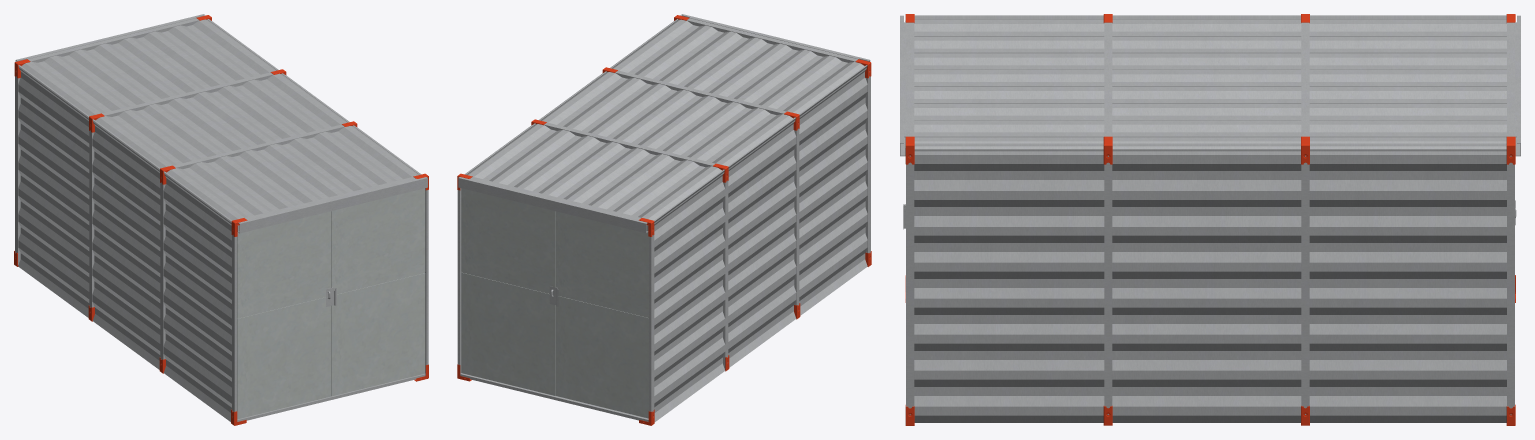
Rendered from 9D_closed.glb.
3 renders of one model, left to right at view 1: azimuth 30°, elevation 25°; view 2: azimuth 150°, elevation 25°; view 3: azimuth 270°, elevation 25°, orthographic. The views are drawn at different scales.
Visible parts, largest first — view 1: rightSide.001, ceiling.001, rightSideDoorWing.001, leftSideDoorWing, frontRim, gutter.001, rimMiddleFront, rimBack, rimMiddleBack, gutter, rightSide; view 2: rightSide.001, ceiling.001, leftSideDoorWing.002, rightSideDoorWing.002, rimBack, gutter, rimMiddleBack, rimMiddleFront, frontRim, gutter.001, rightSide; view 3: rightSide, ceiling.001, frontRim, rimMiddleBack, rimMiddleFront, rimBack, rightSide.001, gutter.001, gutter.
Part boxes in pixels (x1,y1,x2,y2): rightSide.001: [18, 65, 231, 421]; ceiling.001: [19, 19, 421, 223]; rightSideDoorWing.001: [326, 188, 425, 396]; leftSideDoorWing: [237, 211, 330, 419]; frontRim: [232, 177, 428, 421]; gutter.001: [237, 177, 427, 233]; rimMiddleFront: [160, 124, 344, 364]; rimBack: [15, 18, 199, 264]; rimMiddleBack: [89, 72, 273, 312]; gutter: [15, 14, 205, 61]; rightSide: [207, 19, 420, 225]; rightSide.001: [654, 65, 867, 421]; ceiling.001: [465, 19, 866, 223]; leftSideDoorWing.002: [461, 188, 555, 395]; rightSideDoorWing.002: [549, 211, 648, 418]; rimBack: [457, 177, 654, 421]; gutter: [458, 177, 648, 233]; rimMiddleBack: [544, 122, 728, 368]; rimMiddleFront: [615, 70, 799, 310]; frontRim: [686, 18, 870, 253]; gutter.001: [680, 14, 870, 61]; rightSide: [465, 19, 678, 174]; rightSide: [914, 143, 1506, 422]; ceiling.001: [914, 19, 1506, 151]; frontRim: [906, 22, 914, 415]; rimMiddleBack: [1301, 22, 1309, 414]; rimMiddleFront: [1104, 22, 1112, 414]; rimBack: [1507, 22, 1514, 415]; rightSide.001: [914, 15, 1506, 19]; gutter.001: [900, 15, 905, 156]; gutter: [1515, 15, 1520, 156].
Size of the model in its own units: 23.16 by 23.06 by 46.14.
12 materials, 11 textured.
